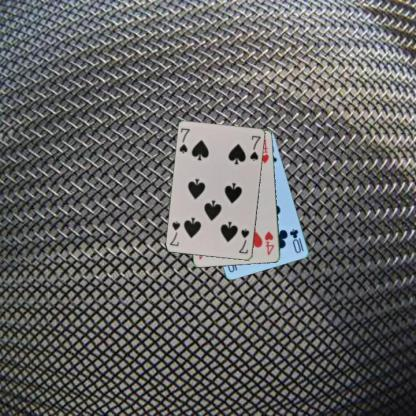10c: (287, 226, 302, 254)
4h: (262, 228, 276, 256)
7s: (176, 126, 192, 155), (236, 226, 250, 255)
